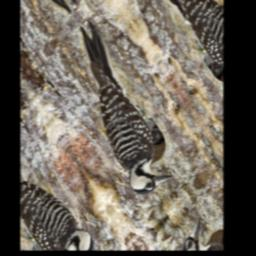Woodpecker: (45, 14, 189, 208)
